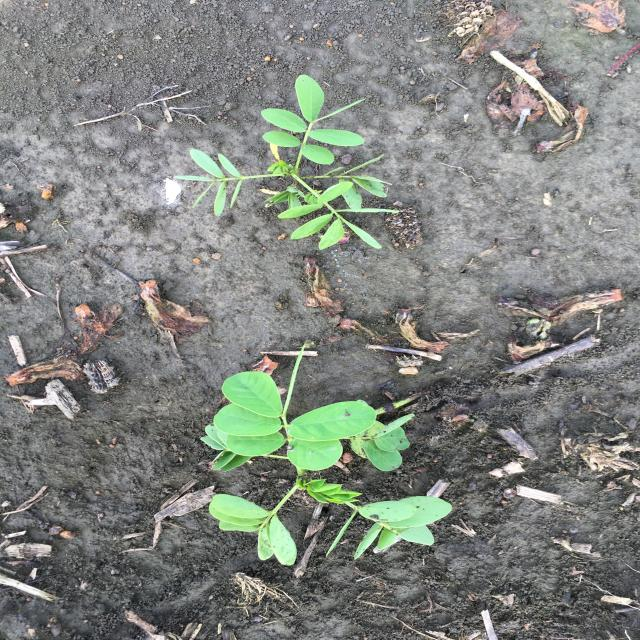Sicklepod: (199, 368, 455, 566), (170, 74, 403, 252)
